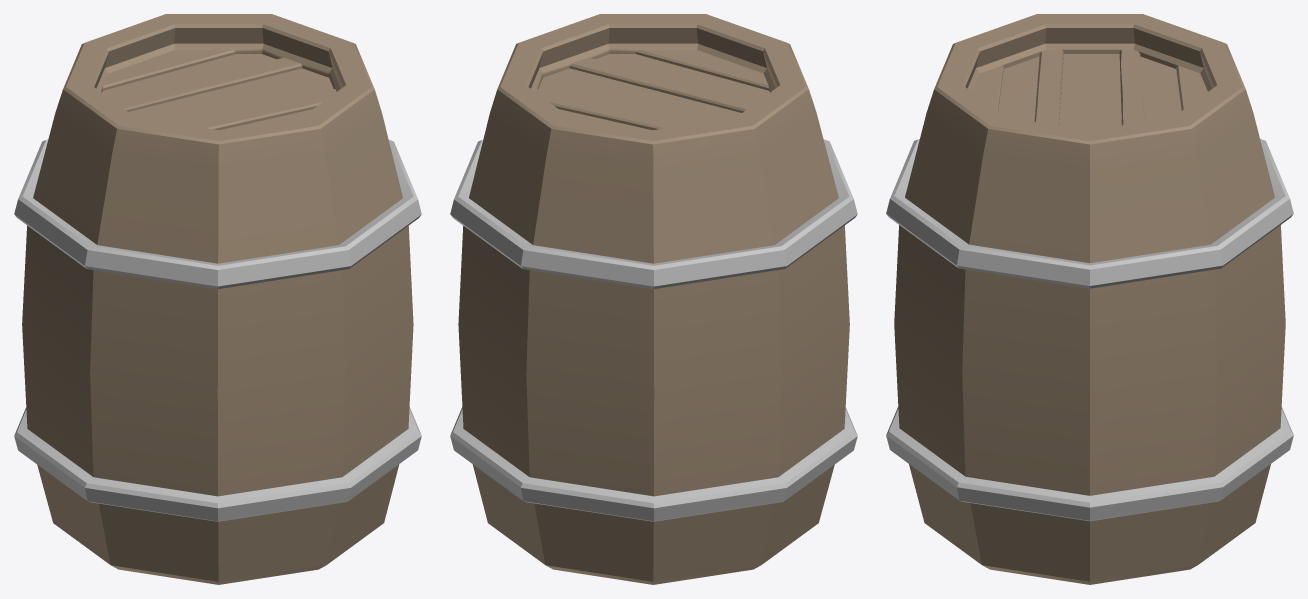
Rendered from Barrel.fbx.
3 renders of one model, left to right at view 1: azimuth 30°, elevation 25°; view 2: azimuth 150°, elevation 25°; view 3: azimuth 270°, elevation 25°, orthographic.
Visible parts, largest first — view 1: pCylinder1; view 2: pCylinder1; view 3: pCylinder1.
Boxes of the visible parts, box(x1,y1,x2,y2) form: pCylinder1: box(14, 14, 421, 584); pCylinder1: box(450, 14, 857, 584); pCylinder1: box(886, 14, 1293, 584).
Bounding box in the file's own units: 25.71 × 31.34 × 26.11.
